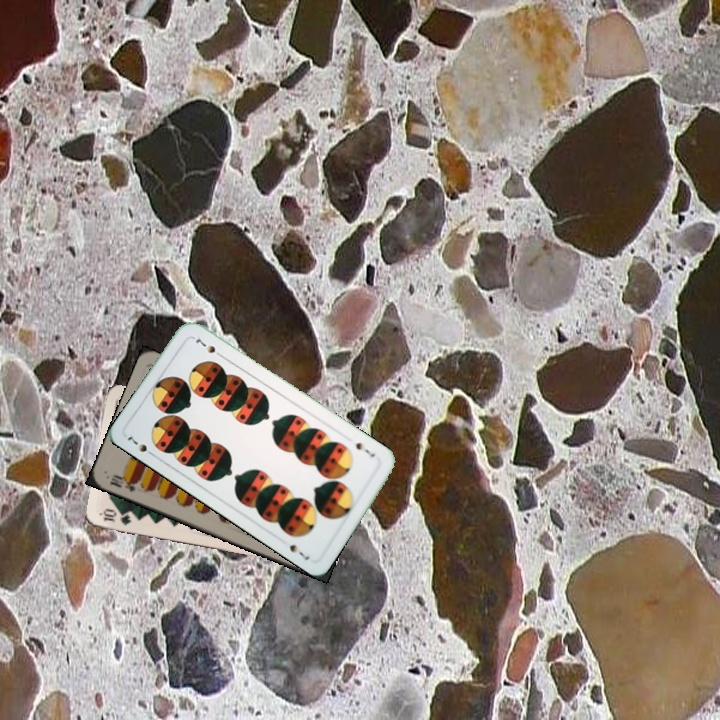E10: (106, 470, 140, 495)
G10: (99, 506, 134, 528)
S7: (124, 432, 158, 460), (352, 438, 378, 460)
